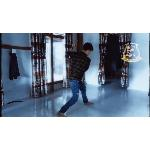Celurit: (81, 71, 91, 87)
